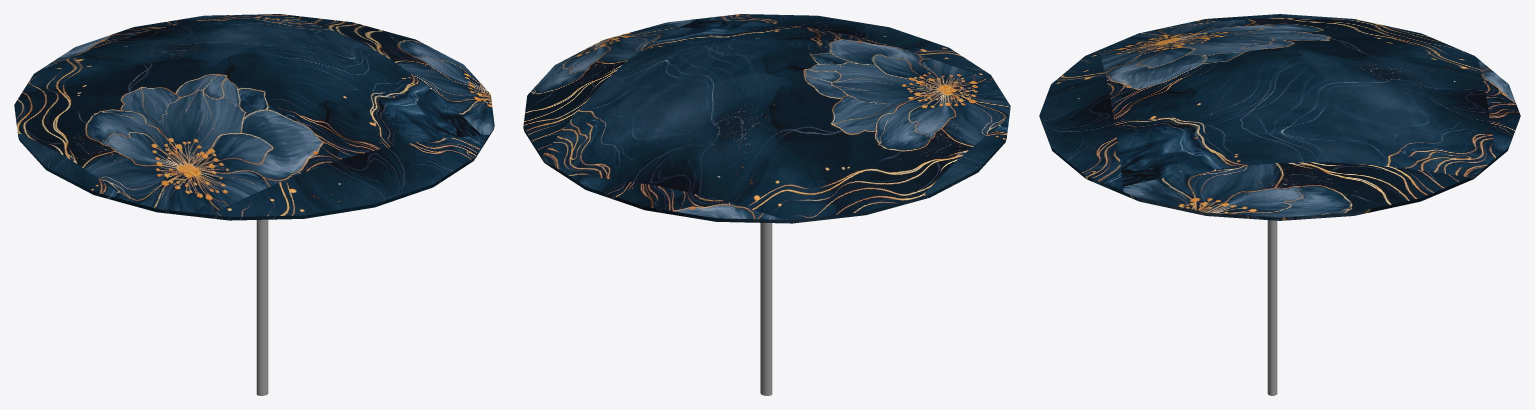
File: umbrella.fbx
3 renders of one model, left to right at view 1: azimuth 30°, elevation 25°; view 2: azimuth 150°, elevation 25°; view 3: azimuth 270°, elevation 25°, orthographic.
Parts seen in each view (by area): view 1: pCone1, pCylinder49; view 2: pCone1, pCylinder49; view 3: pCone1, pCylinder49.
Part boxes in pixels (x1,y1,x2,y2): pCone1: (14,14,494,220); pCylinder49: (256,219,268,395); pCone1: (523,14,1010,223); pCylinder49: (760,223,772,395); pCone1: (1039,14,1520,220); pCylinder49: (1267,220,1277,395).
Bounding box in the file's own units: 194 × 149 × 194.
